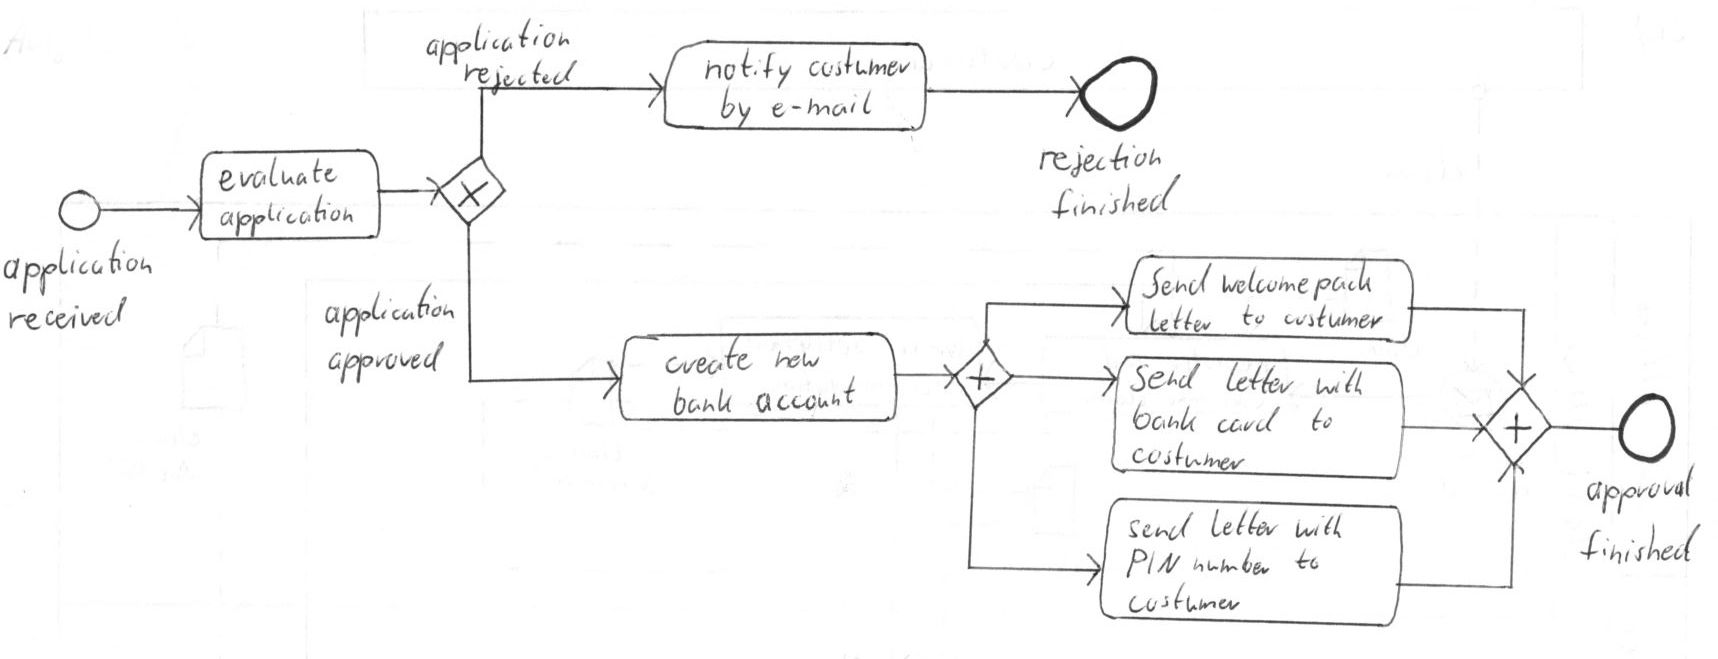PIN: (1121, 546, 1182, 581)
Send: (1138, 261, 1216, 303), (1126, 359, 1205, 395)
account: (754, 372, 861, 416)
application: (1, 240, 157, 291), (323, 283, 457, 336), (420, 23, 572, 66), (214, 194, 357, 235)
approval: (1585, 462, 1700, 512)
approved: (325, 339, 450, 386)
bank: (1131, 401, 1204, 438), (665, 385, 741, 417)
by: (714, 86, 758, 127)
card: (1213, 404, 1287, 438)
costumer: (806, 48, 916, 86), (1130, 443, 1247, 474)
create: (661, 337, 763, 376)
custumer: (1126, 586, 1244, 617), (1276, 305, 1389, 334)
e-mail: (767, 88, 877, 123)
evaluate: (214, 155, 341, 196)
finished: (1045, 178, 1186, 226), (1579, 525, 1700, 566)
letter: (1222, 361, 1299, 401), (1201, 509, 1287, 541), (1143, 307, 1218, 334)
new: (766, 341, 829, 376)
notify: (701, 49, 797, 90)
number: (1189, 548, 1275, 579)
pack: (1309, 258, 1375, 304)
received: (3, 294, 131, 336)
rejected: (457, 59, 579, 92)
rejection: (1030, 141, 1166, 177)
send: (1126, 511, 1200, 543)
to: (1288, 545, 1328, 579), (1303, 404, 1339, 439), (1236, 300, 1272, 333)
welcome: (1218, 268, 1312, 302)
with: (1291, 511, 1351, 546), (1312, 365, 1366, 404)
